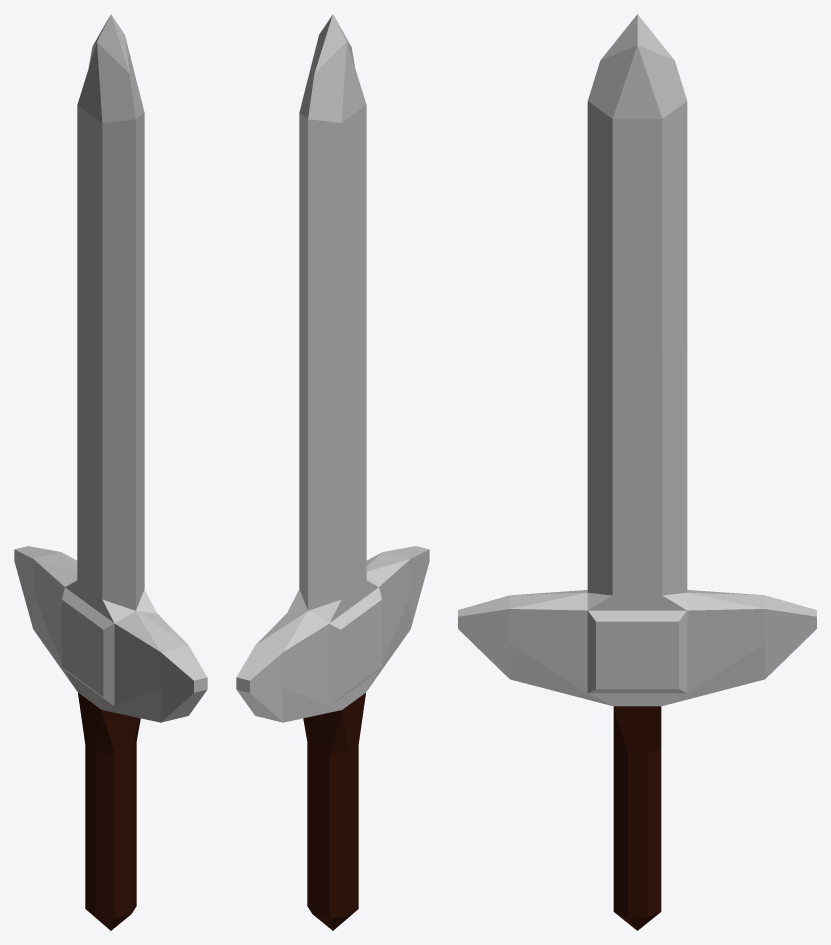
Rendered from scripted_item.obj.
3 views of the same model, side by side, from view 1: azimuth 30°, elevation 25°; view 2: azimuth 150°, elevation 25°; view 3: azimuth 270°, elevation 25° (orthographic).
Parts seen in each view (by area): view 1: tip, lever, screen; view 2: tip, lever, screen; view 3: tip, lever, screen.
Boxes of the visible parts, box(x1,y1,x2,y2) form: tip: box(14, 14, 207, 722); lever: box(78, 693, 140, 930); screen: box(62, 587, 159, 705); tip: box(236, 14, 429, 722); lever: box(303, 693, 365, 930); screen: box(284, 587, 381, 705); tip: box(458, 14, 816, 706); lever: box(613, 706, 661, 930); screen: box(587, 610, 687, 693).
Size of the model in its own units: 0.0789 by 1.22 by 0.4327.
